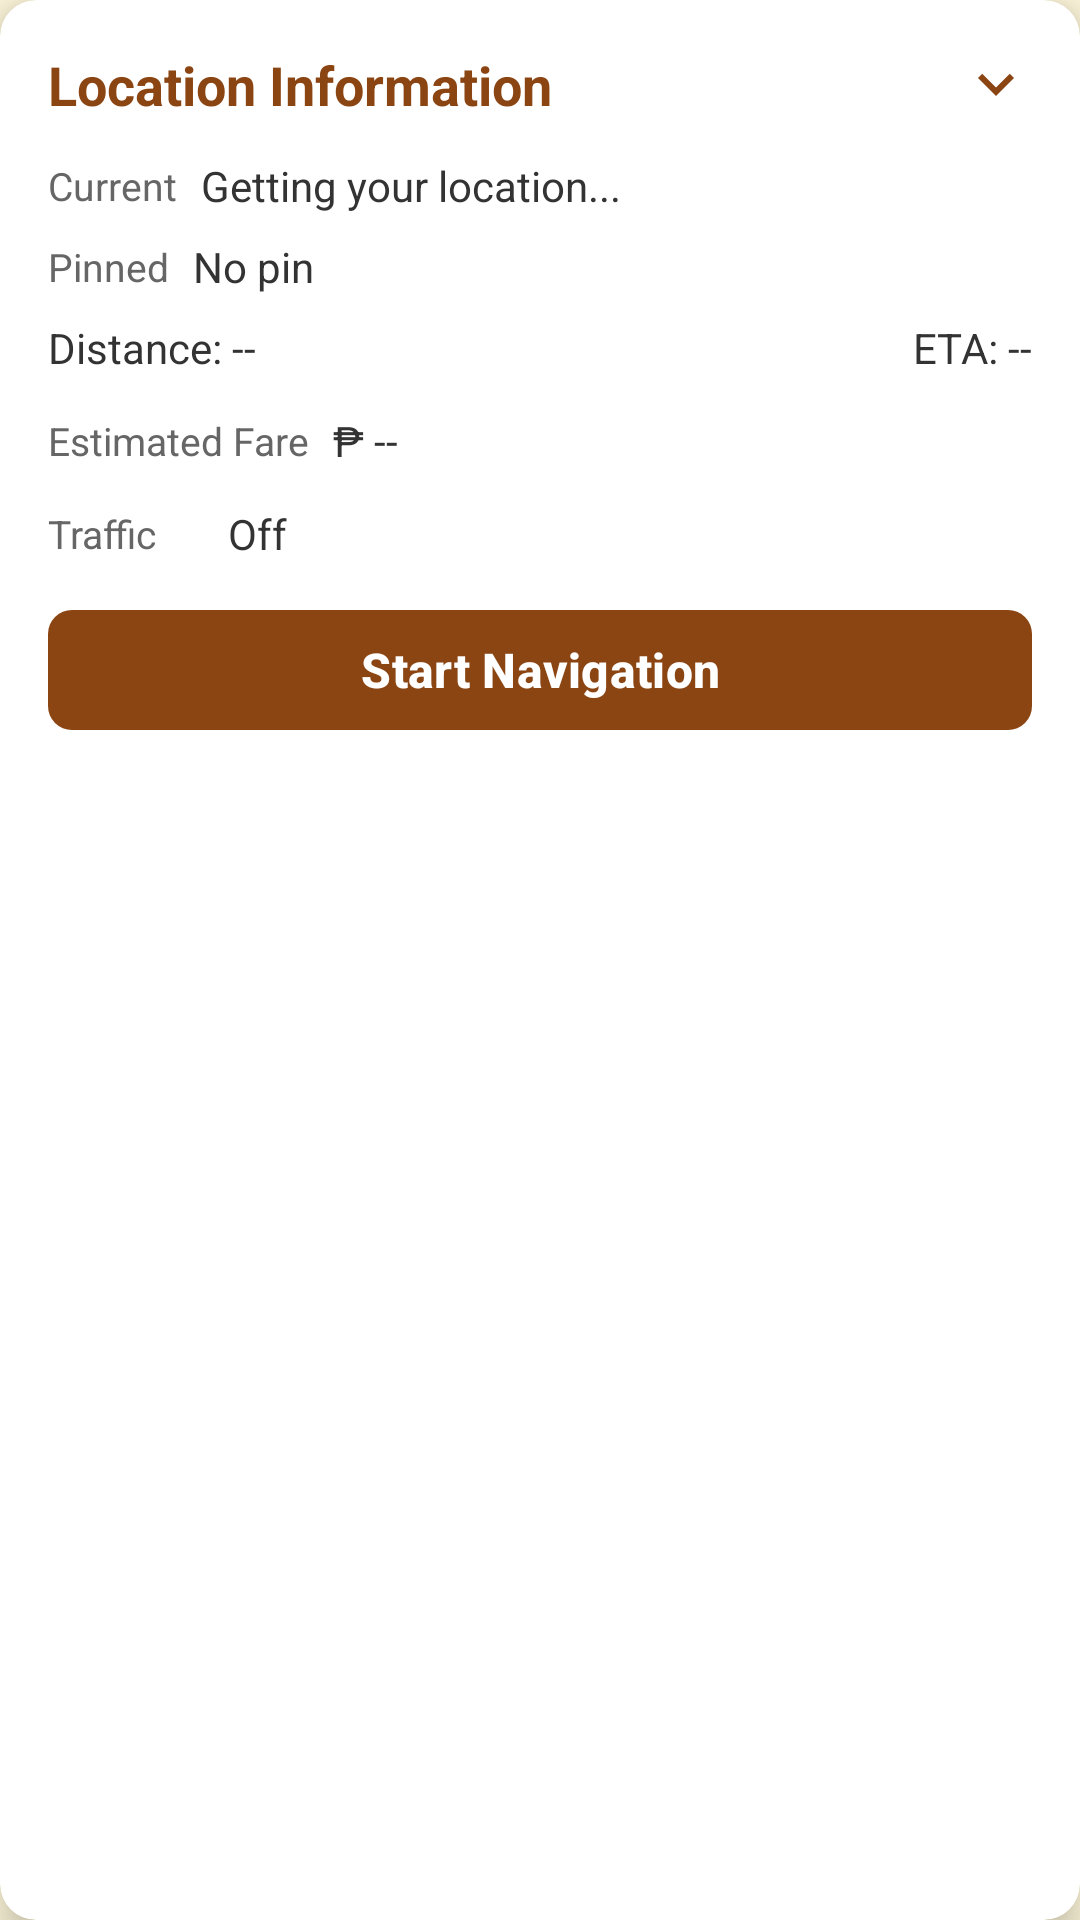

Icon click points for this 1080px x 1920px phone screenshot, format (x=x, y=y):
expand more: (x=996, y=85)
